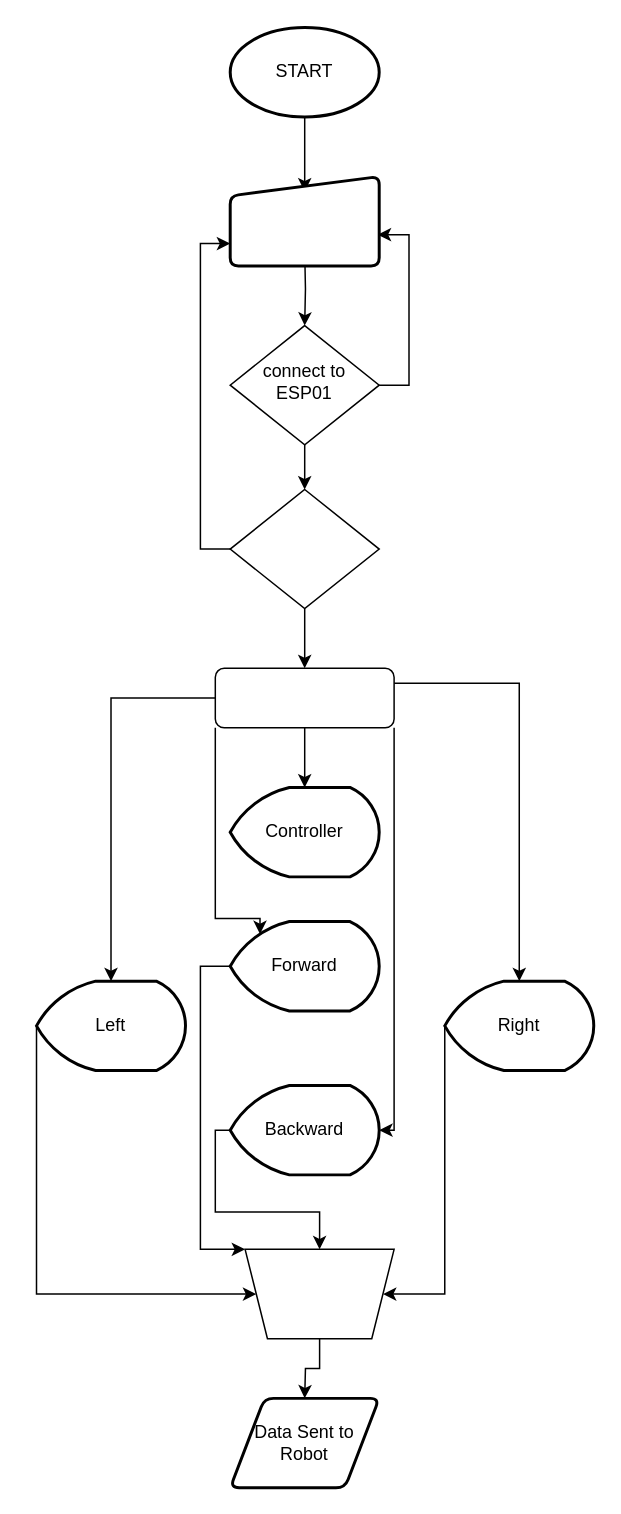
The diagram is 621 pixels wide and 1514 high, and some of its shapes have lost their labels. Each missing label, with the centre of its shape:
"Controller Page" goes at point (304, 697).
"ESP01 login Creditals" goes at point (304, 220).
"Load controller" goes at point (304, 548).
"Manual Operation" goes at point (319, 1293).
